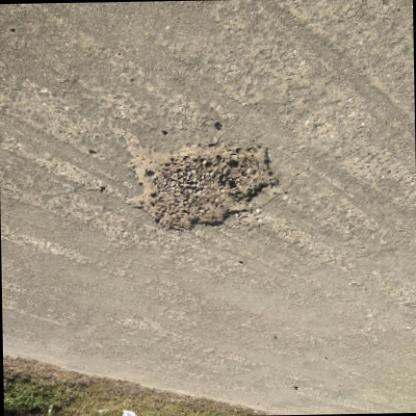pothole: (126, 136, 288, 234)
